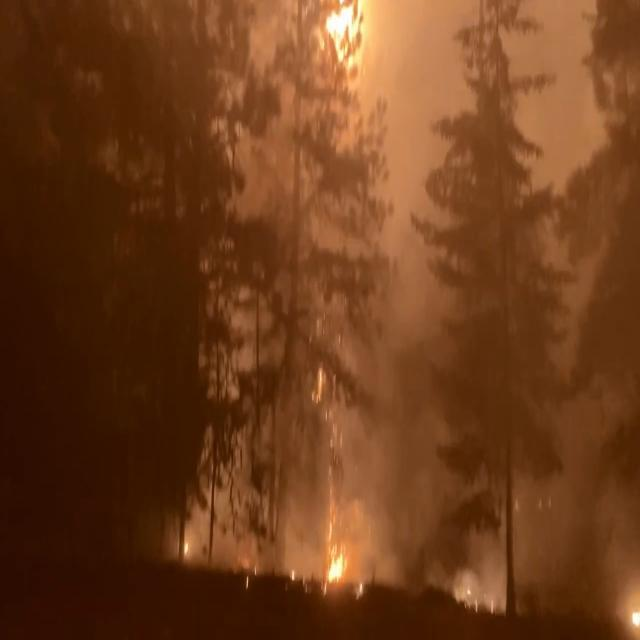Fire: (168, 411, 414, 594), (294, 0, 376, 73)
